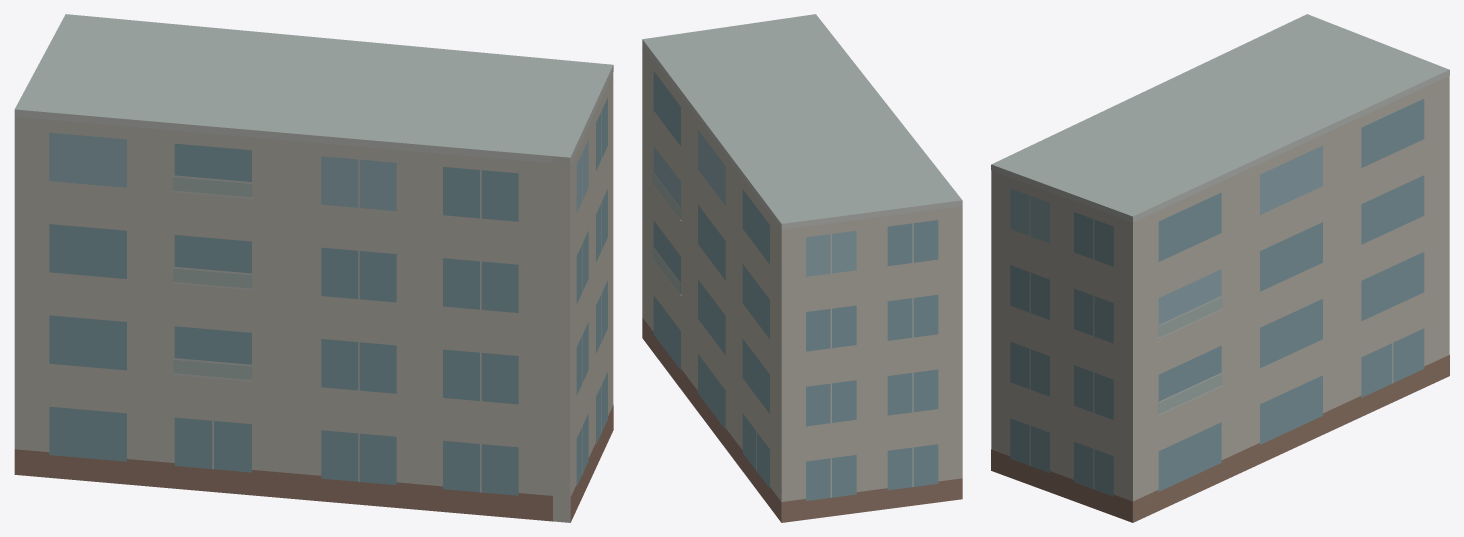
The model's file is survey-upis-33036872.glb.
The picture shows the model from 3 angles, left to right: view 1: azimuth 30°, elevation 25°; view 2: azimuth 150°, elevation 25°; view 3: azimuth 270°, elevation 25°; orthographic projection. The views are drawn at different scales.
Parts seen in each view (by area): view 1: survey-upis-33036872.tmp; view 2: survey-upis-33036872.tmp; view 3: survey-upis-33036872.tmp.
Part boxes in pixels (<box>): survey-upis-33036872.tmp: <box>14,14,613,522</box>; survey-upis-33036872.tmp: <box>642,14,962,522</box>; survey-upis-33036872.tmp: <box>991,14,1449,522</box>.
Bounding box in the file's own units: 17.59 × 12.4 × 16.83.
